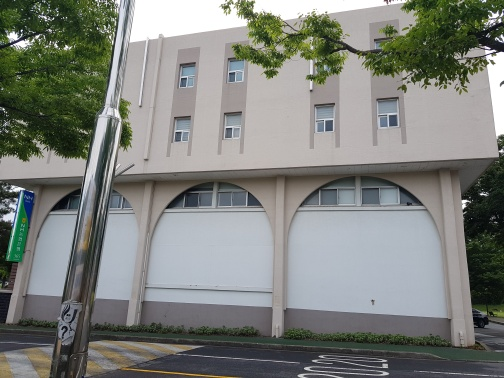Main Building of University: (5, 9, 488, 349), (155, 177, 438, 219), (167, 38, 253, 160), (3, 182, 34, 268)
